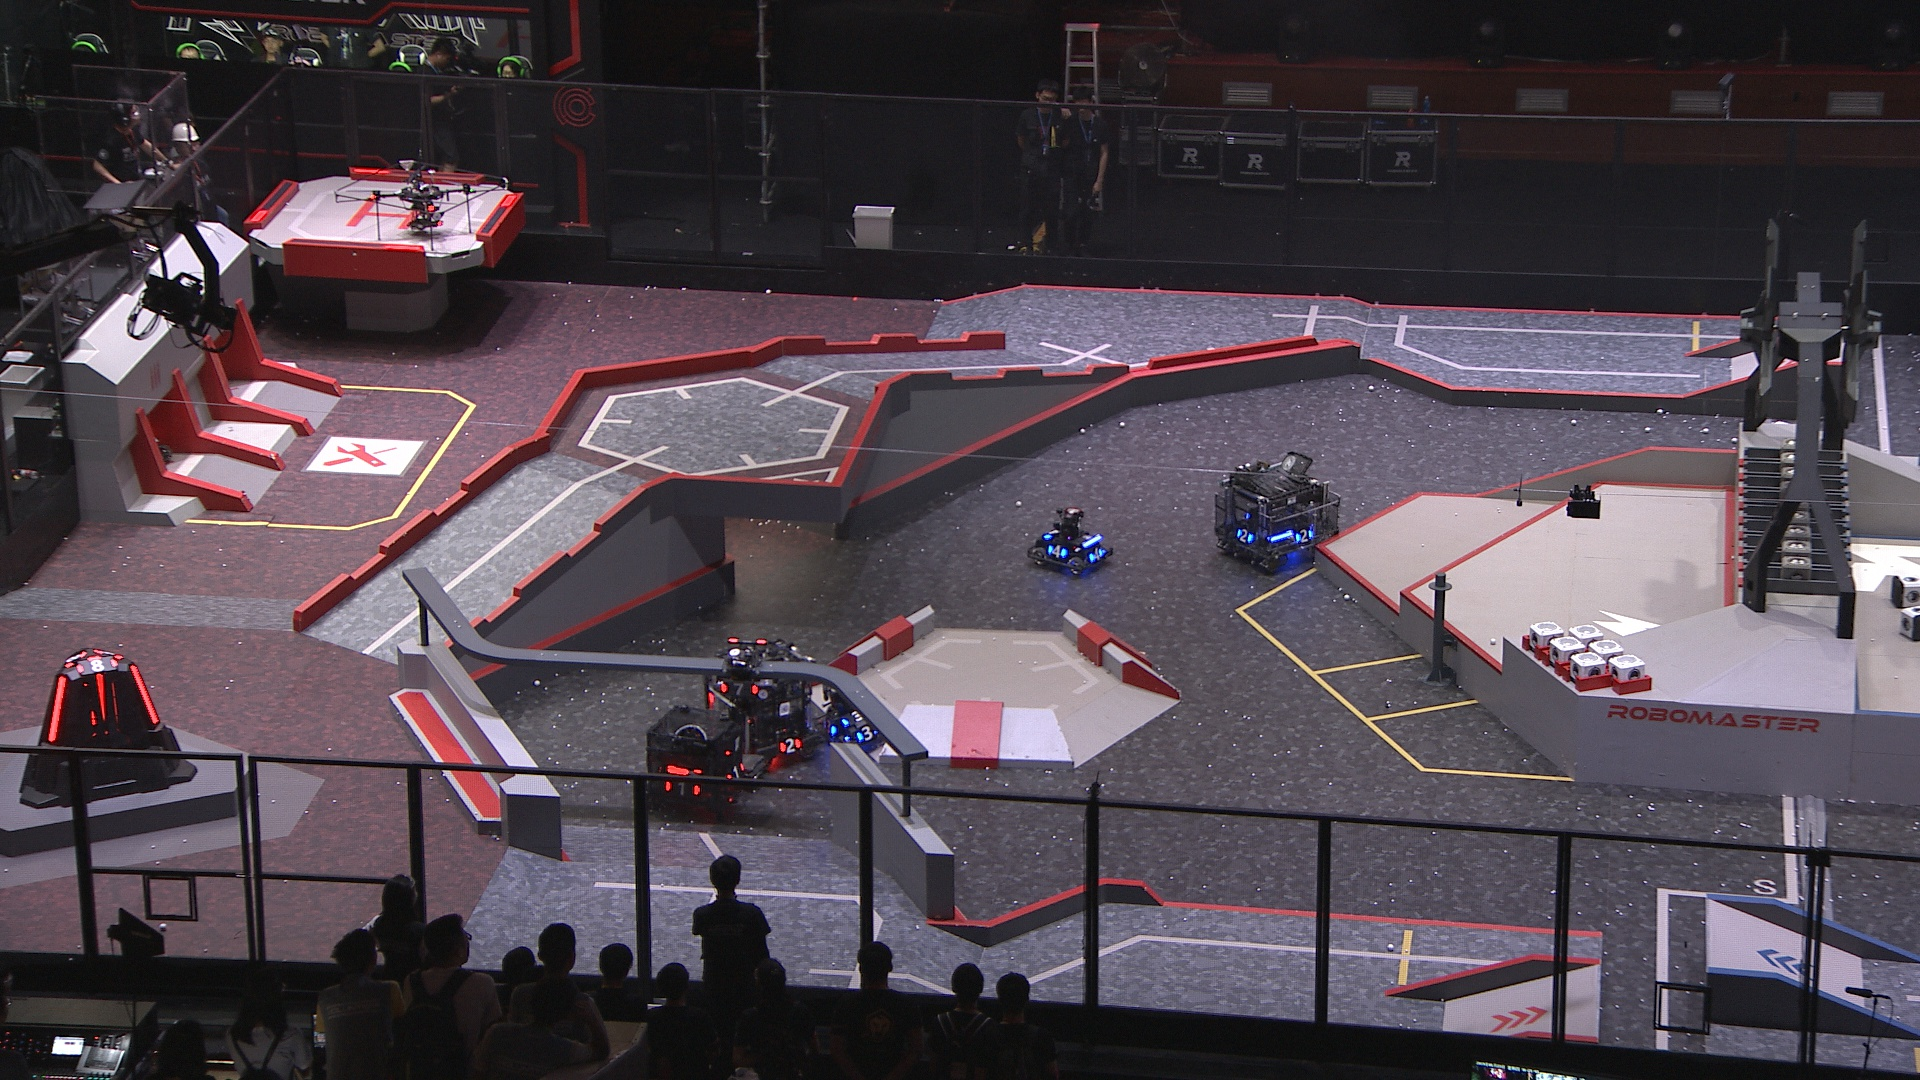armor: (128, 662, 160, 727), (46, 673, 67, 745), (717, 679, 760, 698), (95, 674, 109, 725), (661, 778, 700, 796), (78, 655, 117, 671), (724, 761, 746, 785), (778, 737, 802, 754), (856, 727, 878, 744), (1233, 527, 1254, 543), (1048, 545, 1069, 560), (1294, 529, 1313, 545), (822, 717, 837, 737), (65, 651, 82, 669), (851, 707, 864, 727), (1046, 524, 1059, 542), (1091, 545, 1105, 560)
base: (15, 641, 196, 808)
car: (1212, 448, 1346, 574), (704, 644, 808, 769), (644, 700, 750, 816), (816, 674, 891, 749), (1033, 506, 1110, 578)
watcher: (716, 637, 775, 712)
